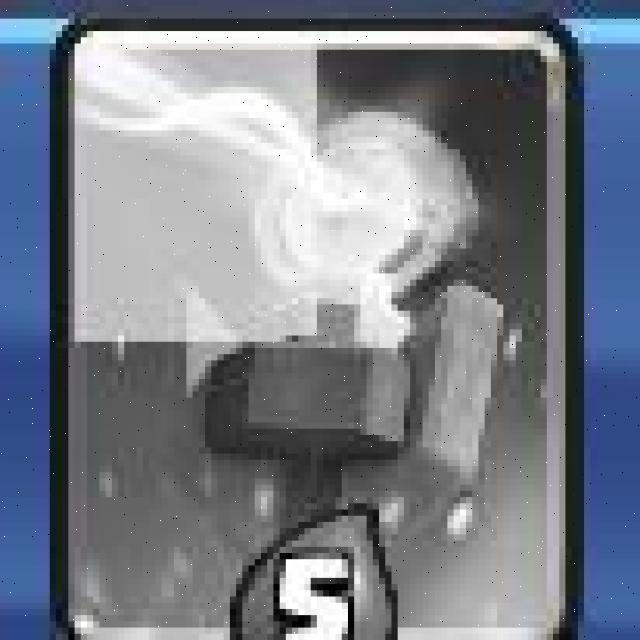Inferno_Tower: (56, 15, 576, 640)
